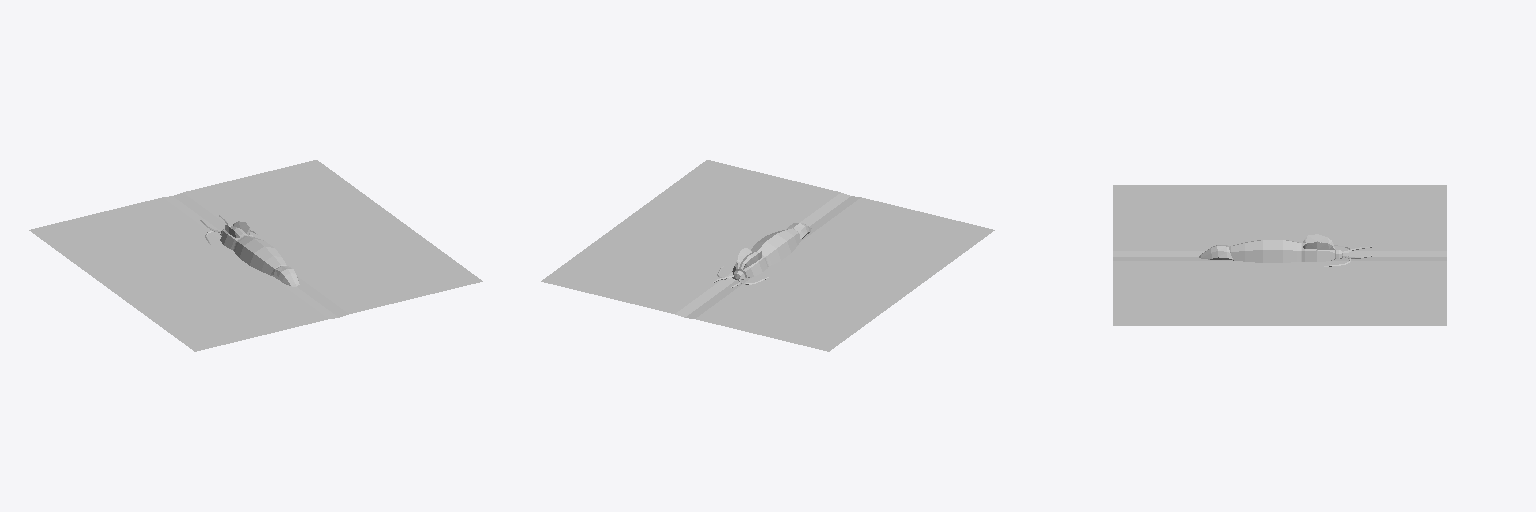
File: BUTTERFLY.obj
3 renders of one model, left to right at view 1: azimuth 30°, elevation 25°; view 2: azimuth 150°, elevation 25°; view 3: azimuth 270°, elevation 25°, orthographic.
Parts seen in each view (by area): view 1: _AWings_1, _ABody_3, _ABody_4; view 2: _AWings_1, _ABody_3, _ABody_4; view 3: _AWings_1, _ABody_3, _ABody_4.
Part boxes in pixels (bbox=[...]): _AWings_1: bbox=[29, 160, 482, 351]; _ABody_3: bbox=[224, 228, 286, 275]; _ABody_4: bbox=[220, 221, 299, 286]; _AWings_1: bbox=[541, 160, 994, 351]; _ABody_3: bbox=[747, 228, 801, 271]; _ABody_4: bbox=[736, 223, 811, 277]; _AWings_1: bbox=[1113, 185, 1446, 325]; _ABody_3: bbox=[1229, 240, 1316, 262]; _ABody_4: bbox=[1199, 234, 1335, 259].
Size of the model in its own units: 0.2852 by 0.0337 by 0.2852.